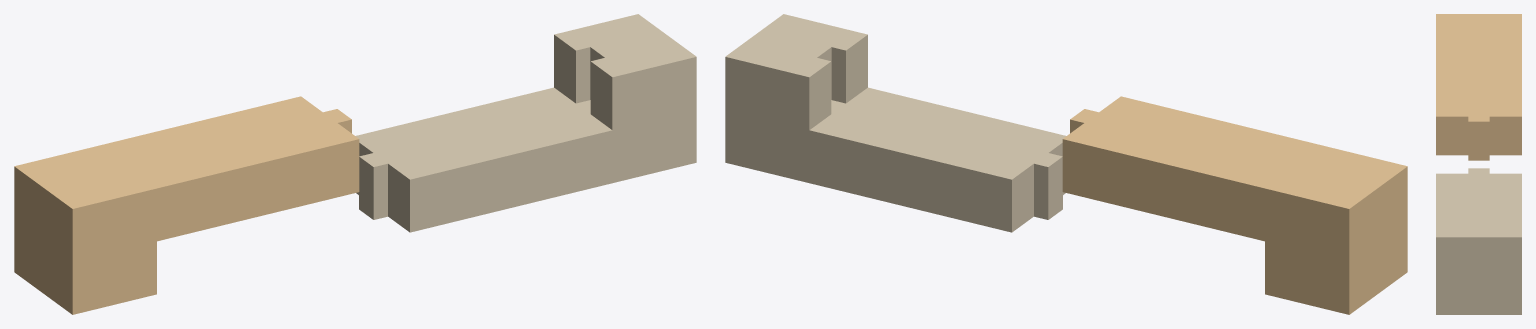
The picture shows the model from 3 angles, left to right: view 1: azimuth 30°, elevation 25°; view 2: azimuth 150°, elevation 25°; view 3: azimuth 270°, elevation 25°; orthographic projection. The views are drawn at different scales.
Bounding box in the file's own units: 0.9 × 0.1459 × 0.1459.
